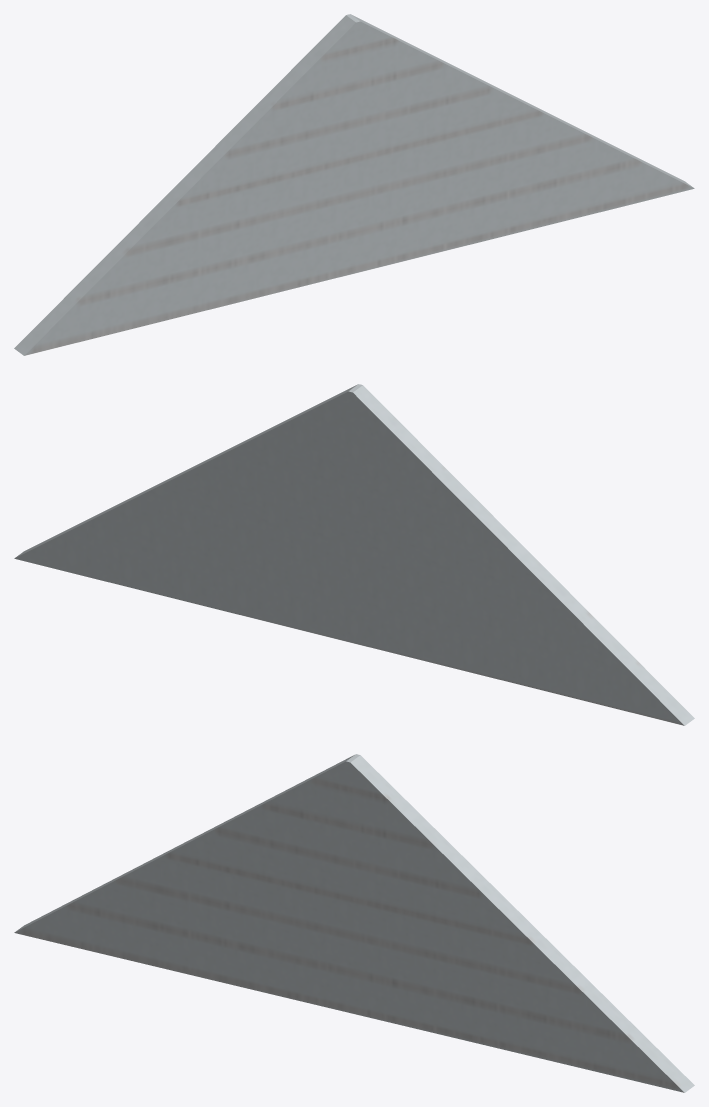
File: wall_3.fbx
3 renders of one model, top to bottom at view 1: azimuth 30°, elevation 25°; view 2: azimuth 150°, elevation 25°; view 3: azimuth 330°, elevation 25°, orthographic.
Visible parts, largest first — view 1: Wall_1.003; view 2: Wall_1.003; view 3: Wall_1.003.
Boxes of the visible parts, left/top/right/bottom form: Wall_1.003: left=14, top=14, right=694, bottom=355; Wall_1.003: left=14, top=384, right=694, bottom=725; Wall_1.003: left=14, top=754, right=694, bottom=1092.
Size of the model in its own units: 21010 by 7554 by 550.
Materials: 1 (1 with a texture image).
